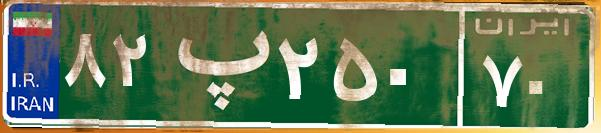0: (385, 28, 445, 110), (525, 38, 570, 115)
2: (273, 28, 330, 110), (110, 28, 158, 105)
5: (330, 28, 385, 110)
7: (475, 38, 525, 113)
8: (57, 26, 110, 107)
پ: (158, 15, 273, 115)
